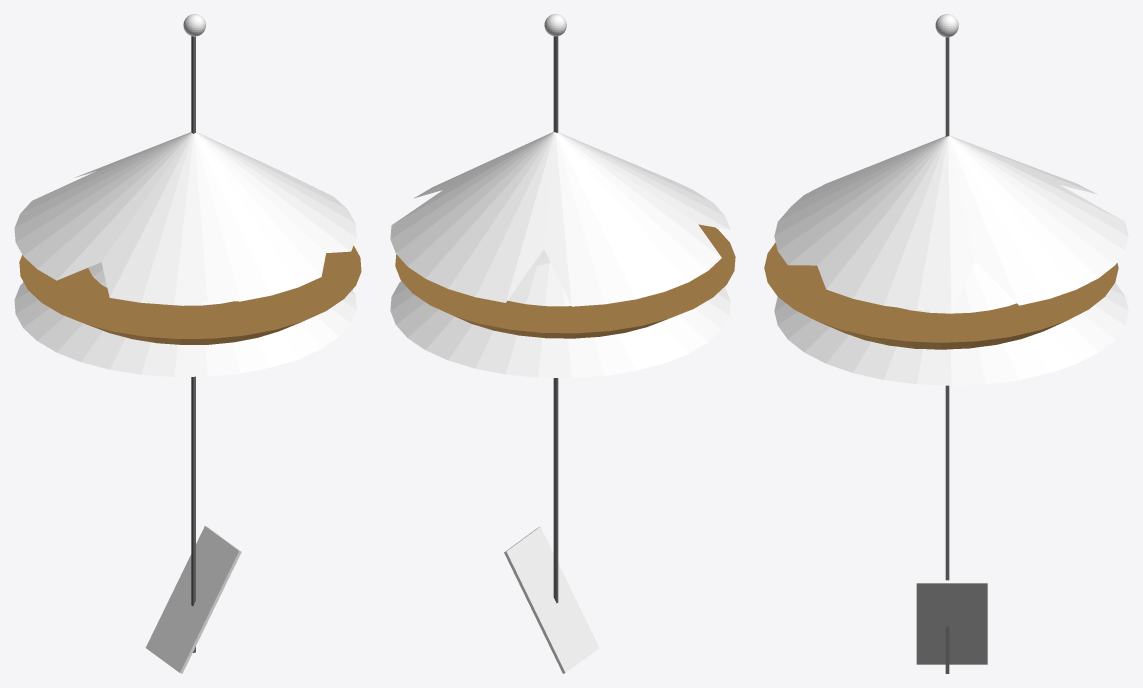
Rendered from satellite7.glb.
The picture shows the model from 3 angles, left to right: view 1: azimuth 30°, elevation 25°; view 2: azimuth 150°, elevation 25°; view 3: azimuth 270°, elevation 25°; orthographic projection. The views are drawn at different scales.
Parts seen in each view (by area): view 1: Cone, Cone.001, Cone.002, Cube.001, Cube; view 2: Cone, Cone.002, Cone.001, Cube.001, Cube; view 3: Cone, Cone.002, Cone.001, Cube.001, Cube.
Boxes of the visible parts, box(x1,y1,x2,y2) form: Cone: box(14, 132, 356, 305); Cone.001: box(19, 245, 361, 344); Cone.002: box(14, 262, 356, 376); Cube.001: box(145, 526, 241, 673); Cube: box(191, 36, 195, 652); Cone: box(390, 132, 730, 306); Cone.002: box(390, 262, 730, 378); Cone.001: box(395, 224, 735, 338); Cube.001: box(504, 526, 599, 673); Cube: box(553, 36, 558, 603); Cone: box(774, 135, 1128, 311); Cone.002: box(774, 262, 1128, 385); Cone.001: box(764, 242, 1118, 349); Cube.001: box(916, 580, 987, 664); Cube: box(945, 37, 949, 673).
Size of the model in its own units: 2 by 4.13 by 2.06.
